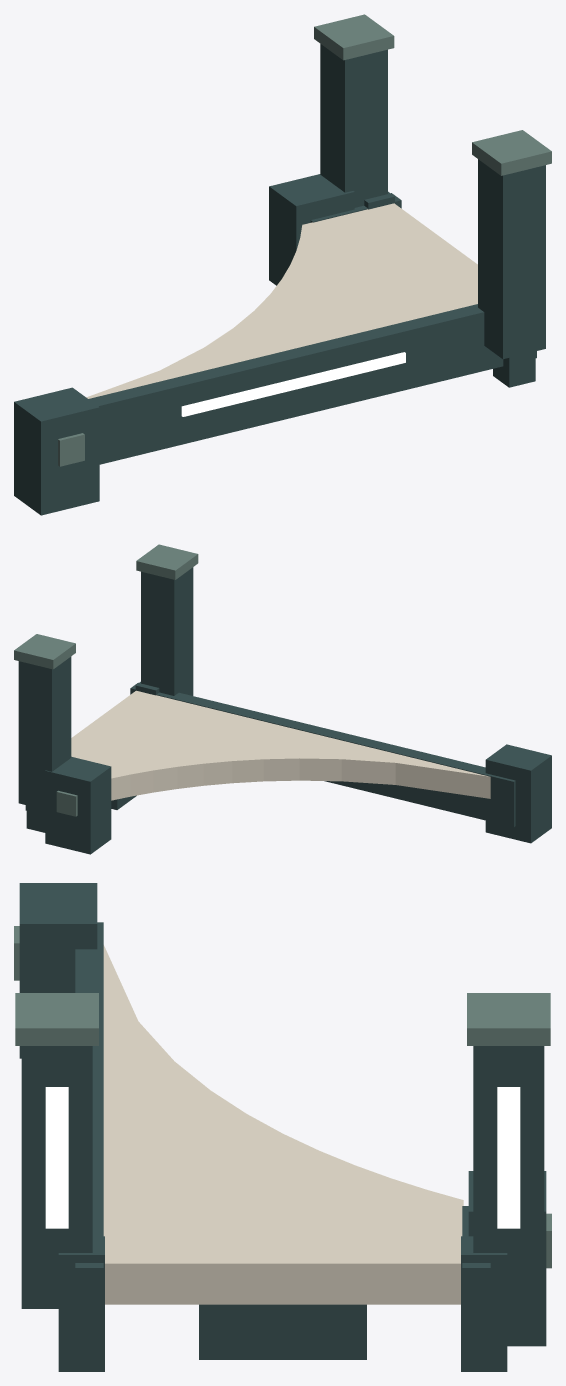
Rendered from Pier_Angled_50_Switch_lab.glb.
3 views of the same model, one above another, from view 1: azimuth 30°, elevation 25°; view 2: azimuth 150°, elevation 25°; view 3: azimuth 270°, elevation 25° (orthographic). The views are drawn at different scales.
Parts seen in each view (by area): view 1: Pier_Angled_50_Switch; view 2: Pier_Angled_50_Switch; view 3: Pier_Angled_50_Switch.
Boxes of the visible parts, <box> form: Pier_Angled_50_Switch: <box>14,14,551,515</box>; Pier_Angled_50_Switch: <box>14,544,551,854</box>; Pier_Angled_50_Switch: <box>14,883,551,1371</box>.
Size of the model in its own units: 6.6 by 2.95 by 4.17.
